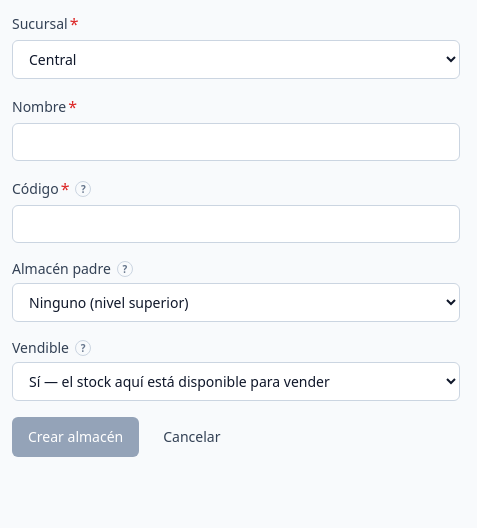
Test case: LocationForm › create: surfaces a 409 code conflict safely
In the field labelled "Nombre": (236,142) 12,123 -> 460,161, type "Bay"
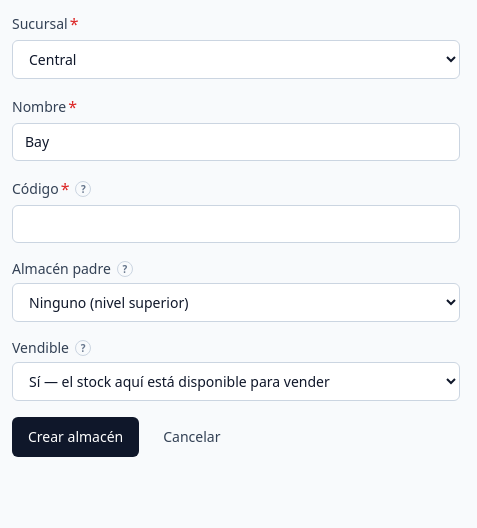
In the field labelled "Código": (236,224) 12,205 -> 460,243, type "BAY"
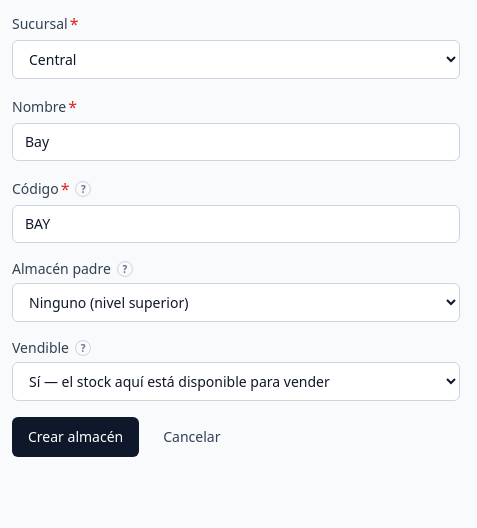
Click the button "Crear almacén": (76,437) 12,417 -> 139,457
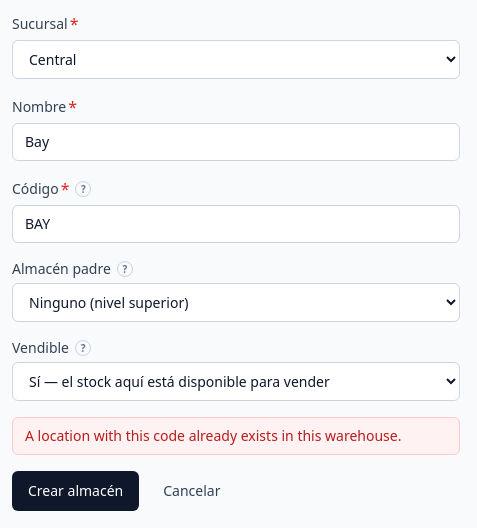
Expected: the text "A location with this code already exists in this warehouse." is shown, 25,426 -> 447,446
